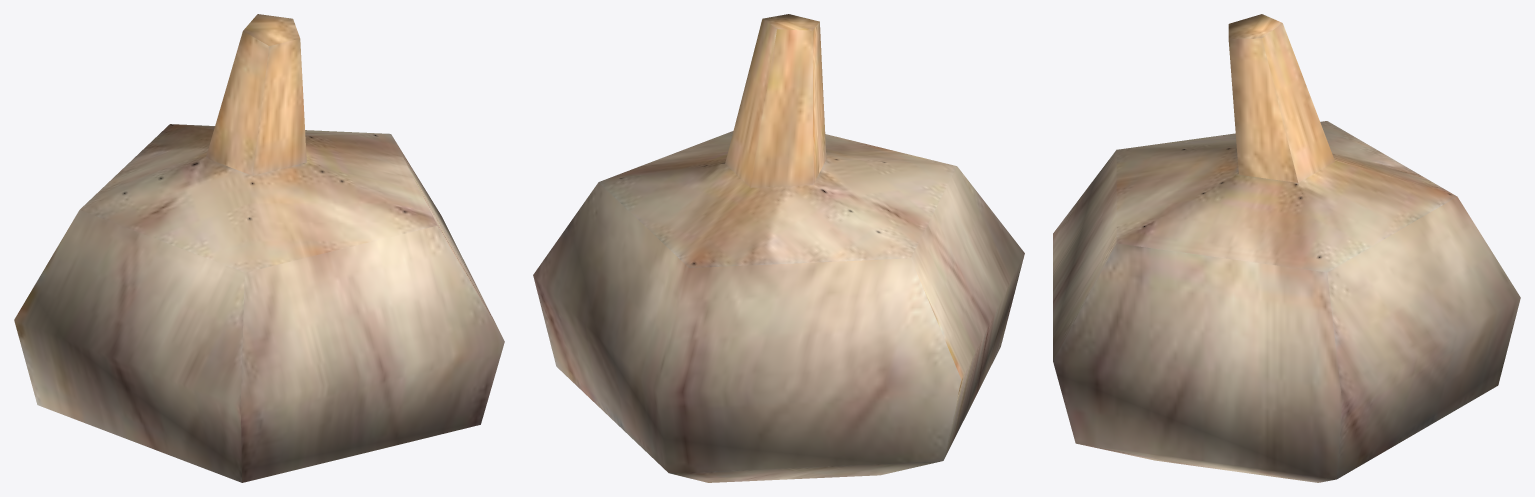
File: Garlic.glb
3 renders of one model, left to right at view 1: azimuth 30°, elevation 25°; view 2: azimuth 150°, elevation 25°; view 3: azimuth 270°, elevation 25°, orthographic.
Visible parts, largest first — view 1: Garlic; view 2: Garlic; view 3: Garlic.
Part boxes in pixels (box(x1,y1,x2,y2)): Garlic: box(14, 14, 504, 482); Garlic: box(533, 14, 1024, 482); Garlic: box(1053, 14, 1520, 482).
Size of the model in its own units: 0.0941 by 0.0847 by 0.0894.
1 material, 1 textured.
